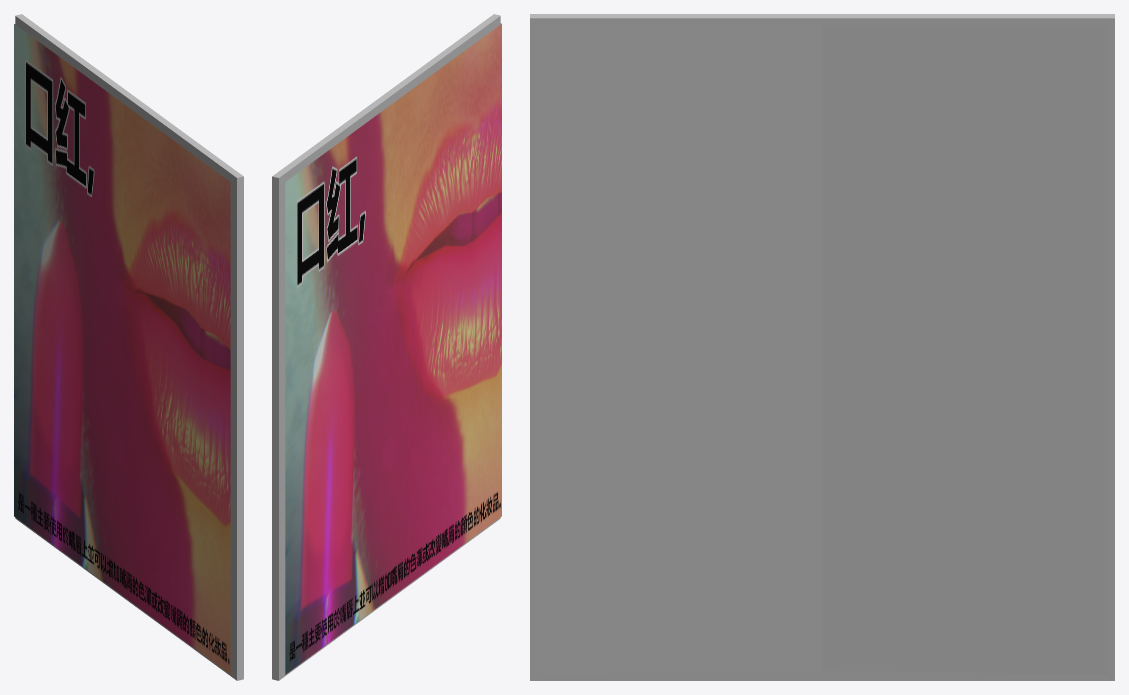
Rendered from advertis plane.FBX.
3 views of the same model, side by side, from view 1: azimuth 30°, elevation 25°; view 2: azimuth 150°, elevation 25°; view 3: azimuth 270°, elevation 25° (orthographic). The views are drawn at different scales.
Visible parts, largest first — view 1: Box207; view 2: Box207; view 3: Box207.
Part boxes in pixels (box(x1,y1,x2,y2)): Box207: box(14, 14, 243, 680); Box207: box(272, 14, 501, 680); Box207: box(530, 14, 1114, 680).
Bounding box in the file's own units: 0.11 × 5 × 4.
